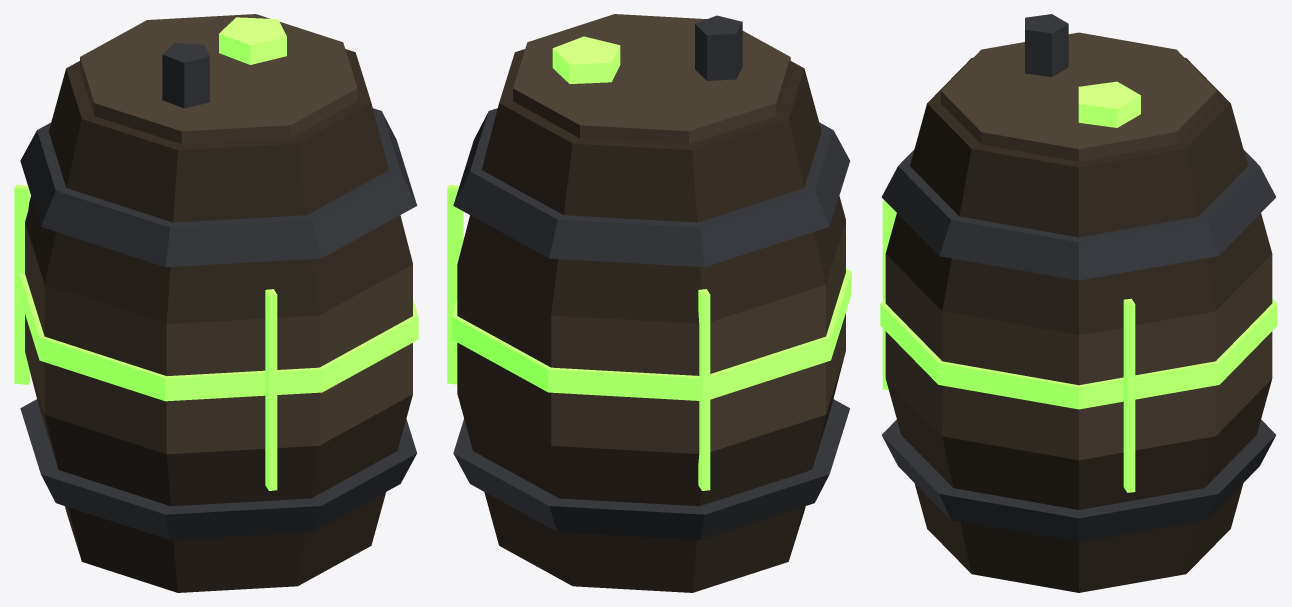
The model's file is obj_barrel.glb.
3 views of the same model, side by side, from view 1: azimuth 30°, elevation 25°; view 2: azimuth 150°, elevation 25°; view 3: azimuth 270°, elevation 25° (orthographic). The views are drawn at different scales.
Visible parts, largest first — view 1: obj_barrel; view 2: obj_barrel; view 3: obj_barrel.
Part boxes in pixels (x1,y1,x2,y2): obj_barrel: [14, 14, 418, 592]; obj_barrel: [447, 14, 851, 592]; obj_barrel: [880, 14, 1277, 592].
Bounding box in the file's own units: 0.576 × 0.77 × 0.576.
